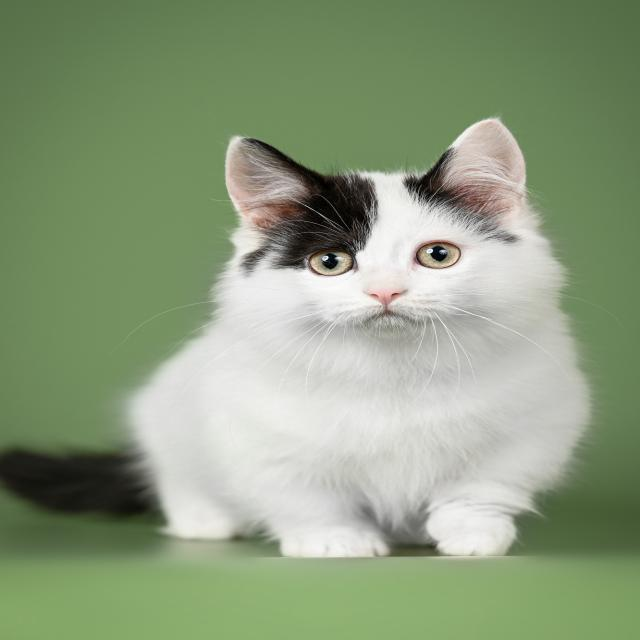Munchkin: (0, 113, 600, 570)
